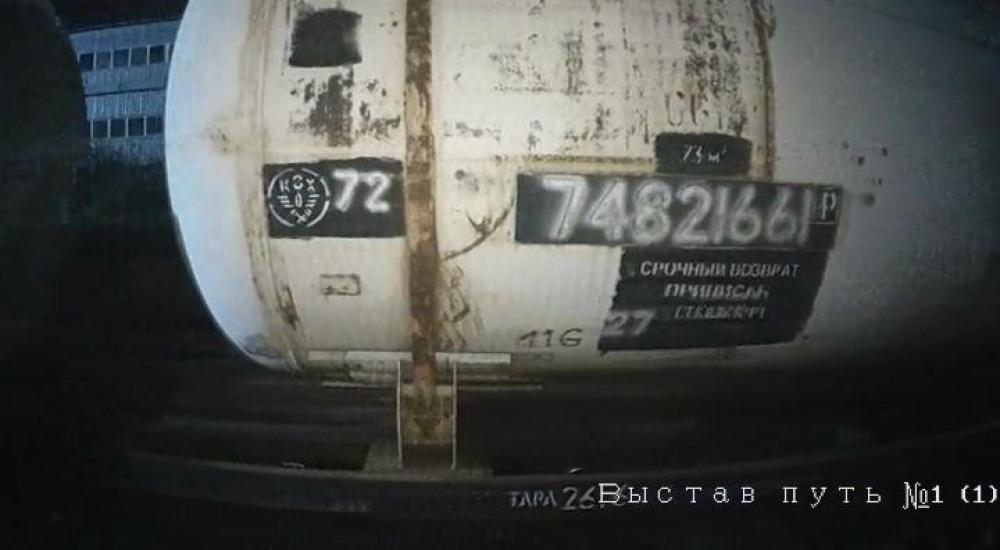Wagon-number: (534, 173, 817, 249)
